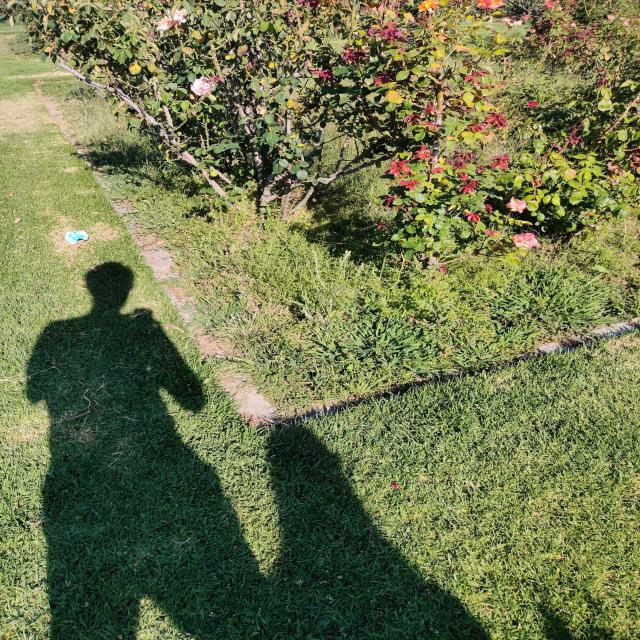litter: (63, 228, 92, 247)
